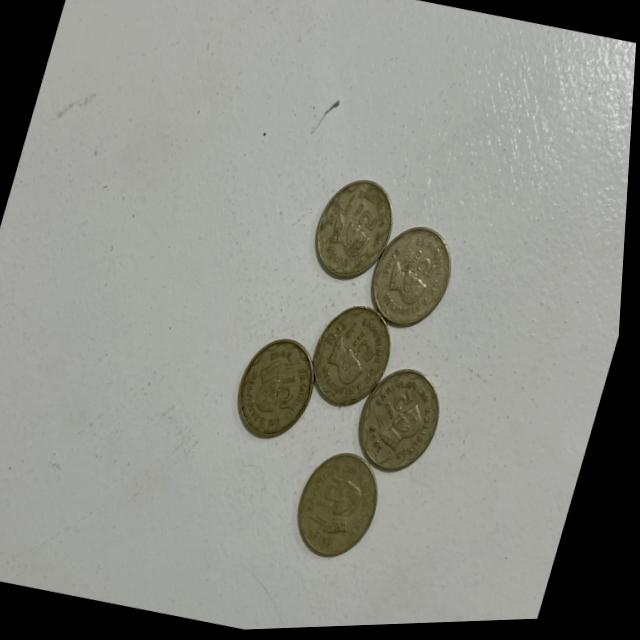5_Old_Front: (347, 322, 390, 377), (273, 362, 312, 419), (383, 378, 426, 429), (407, 239, 448, 285), (317, 468, 353, 517), (350, 199, 385, 234)
